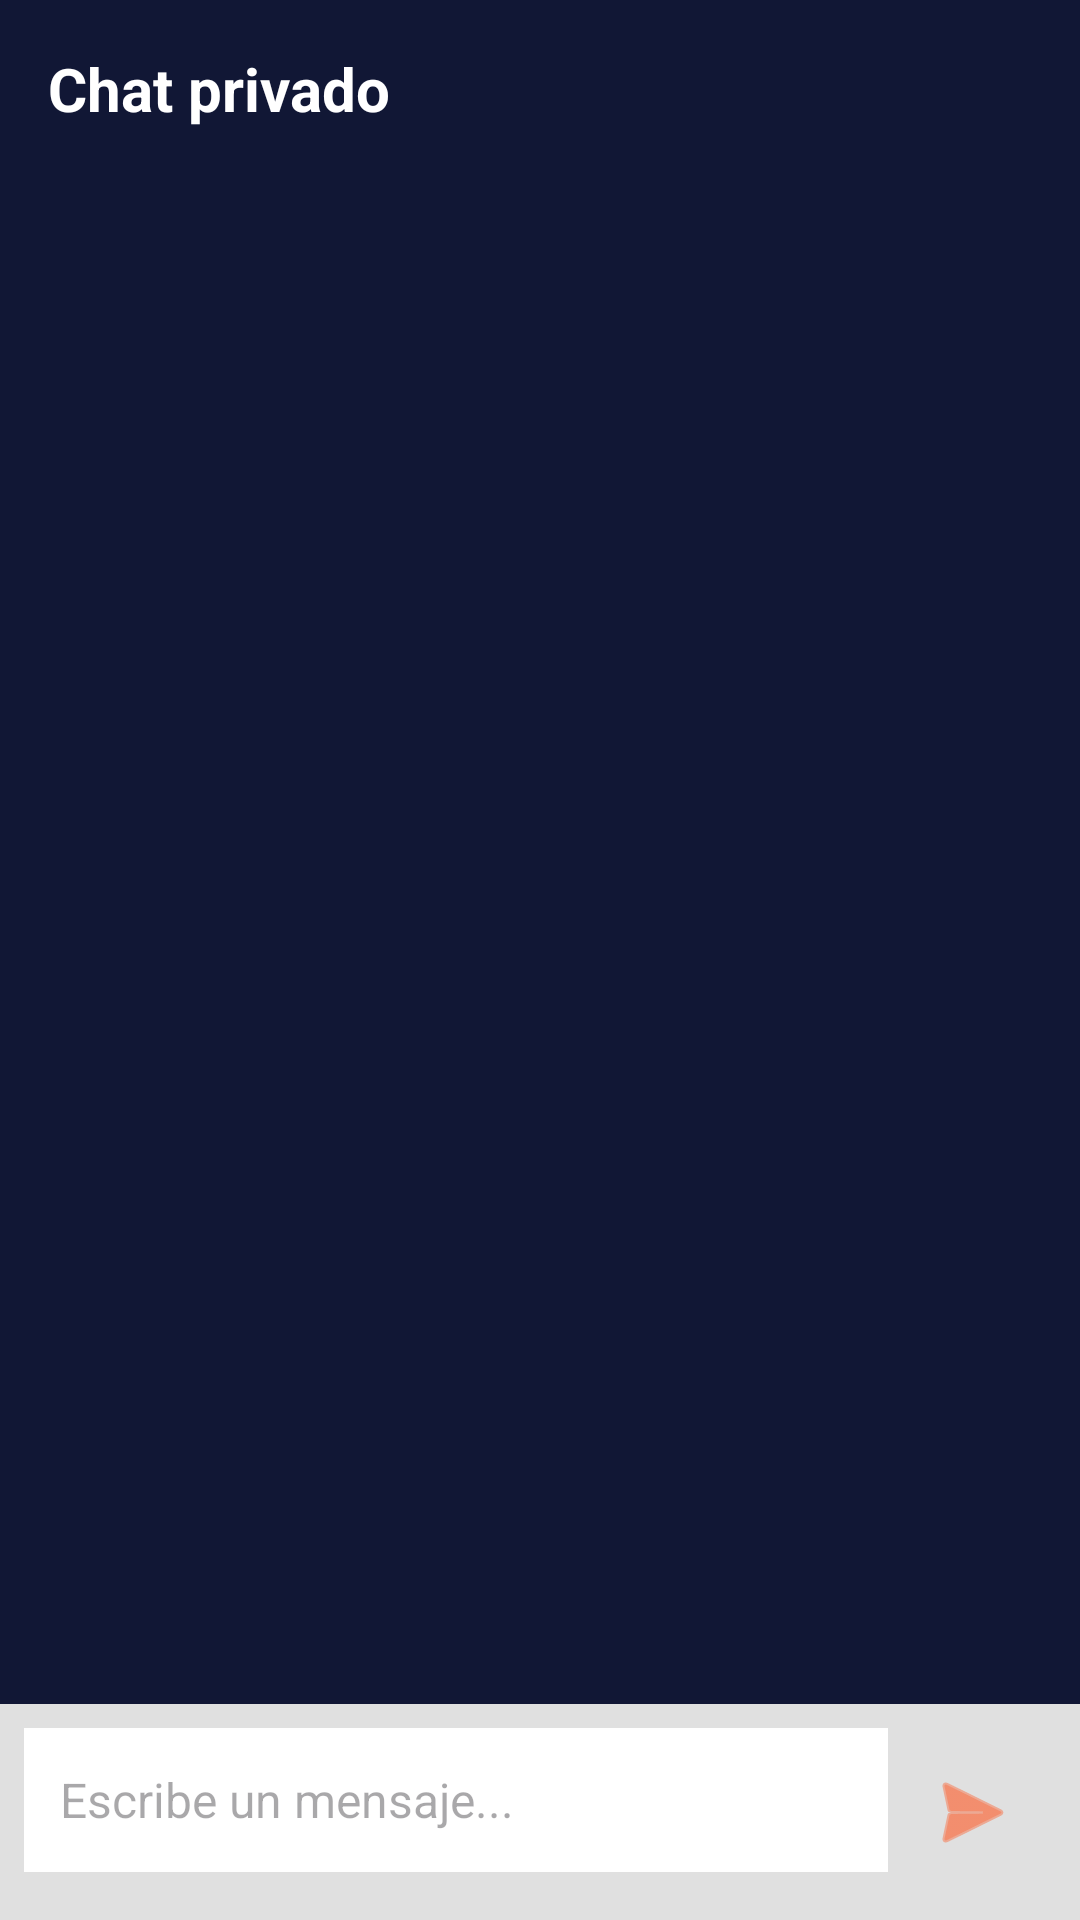

Where icons sit on this 1080 × 1920 app screen, as BBox(x1, y1, x2, y2):
Enviar: BBox(942, 1782, 1004, 1843)
